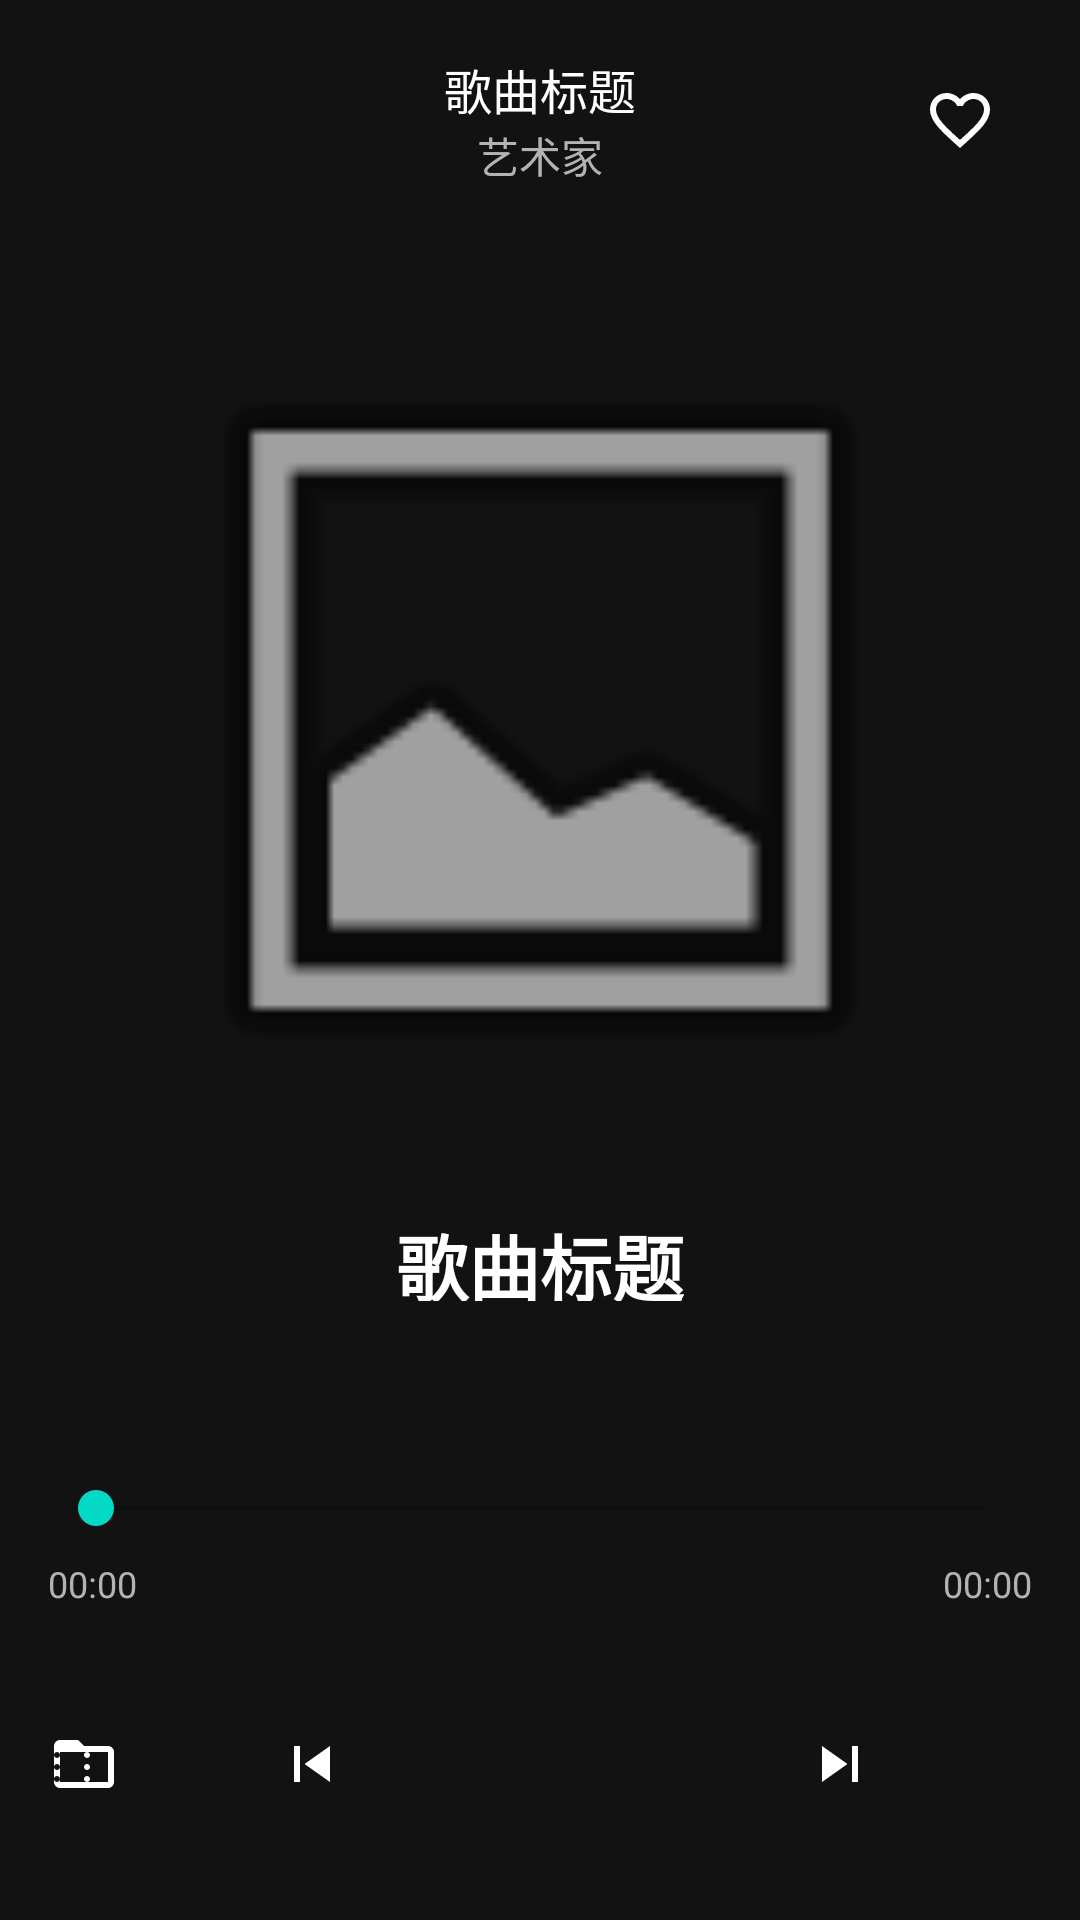

Locate icon controls on the screen. Image size 1080*1920, boxes as (x1, y1, x2, y2).
上一首: (294, 1746, 330, 1782)
下一首: (822, 1746, 858, 1782)
收藏: (930, 93, 990, 148)
